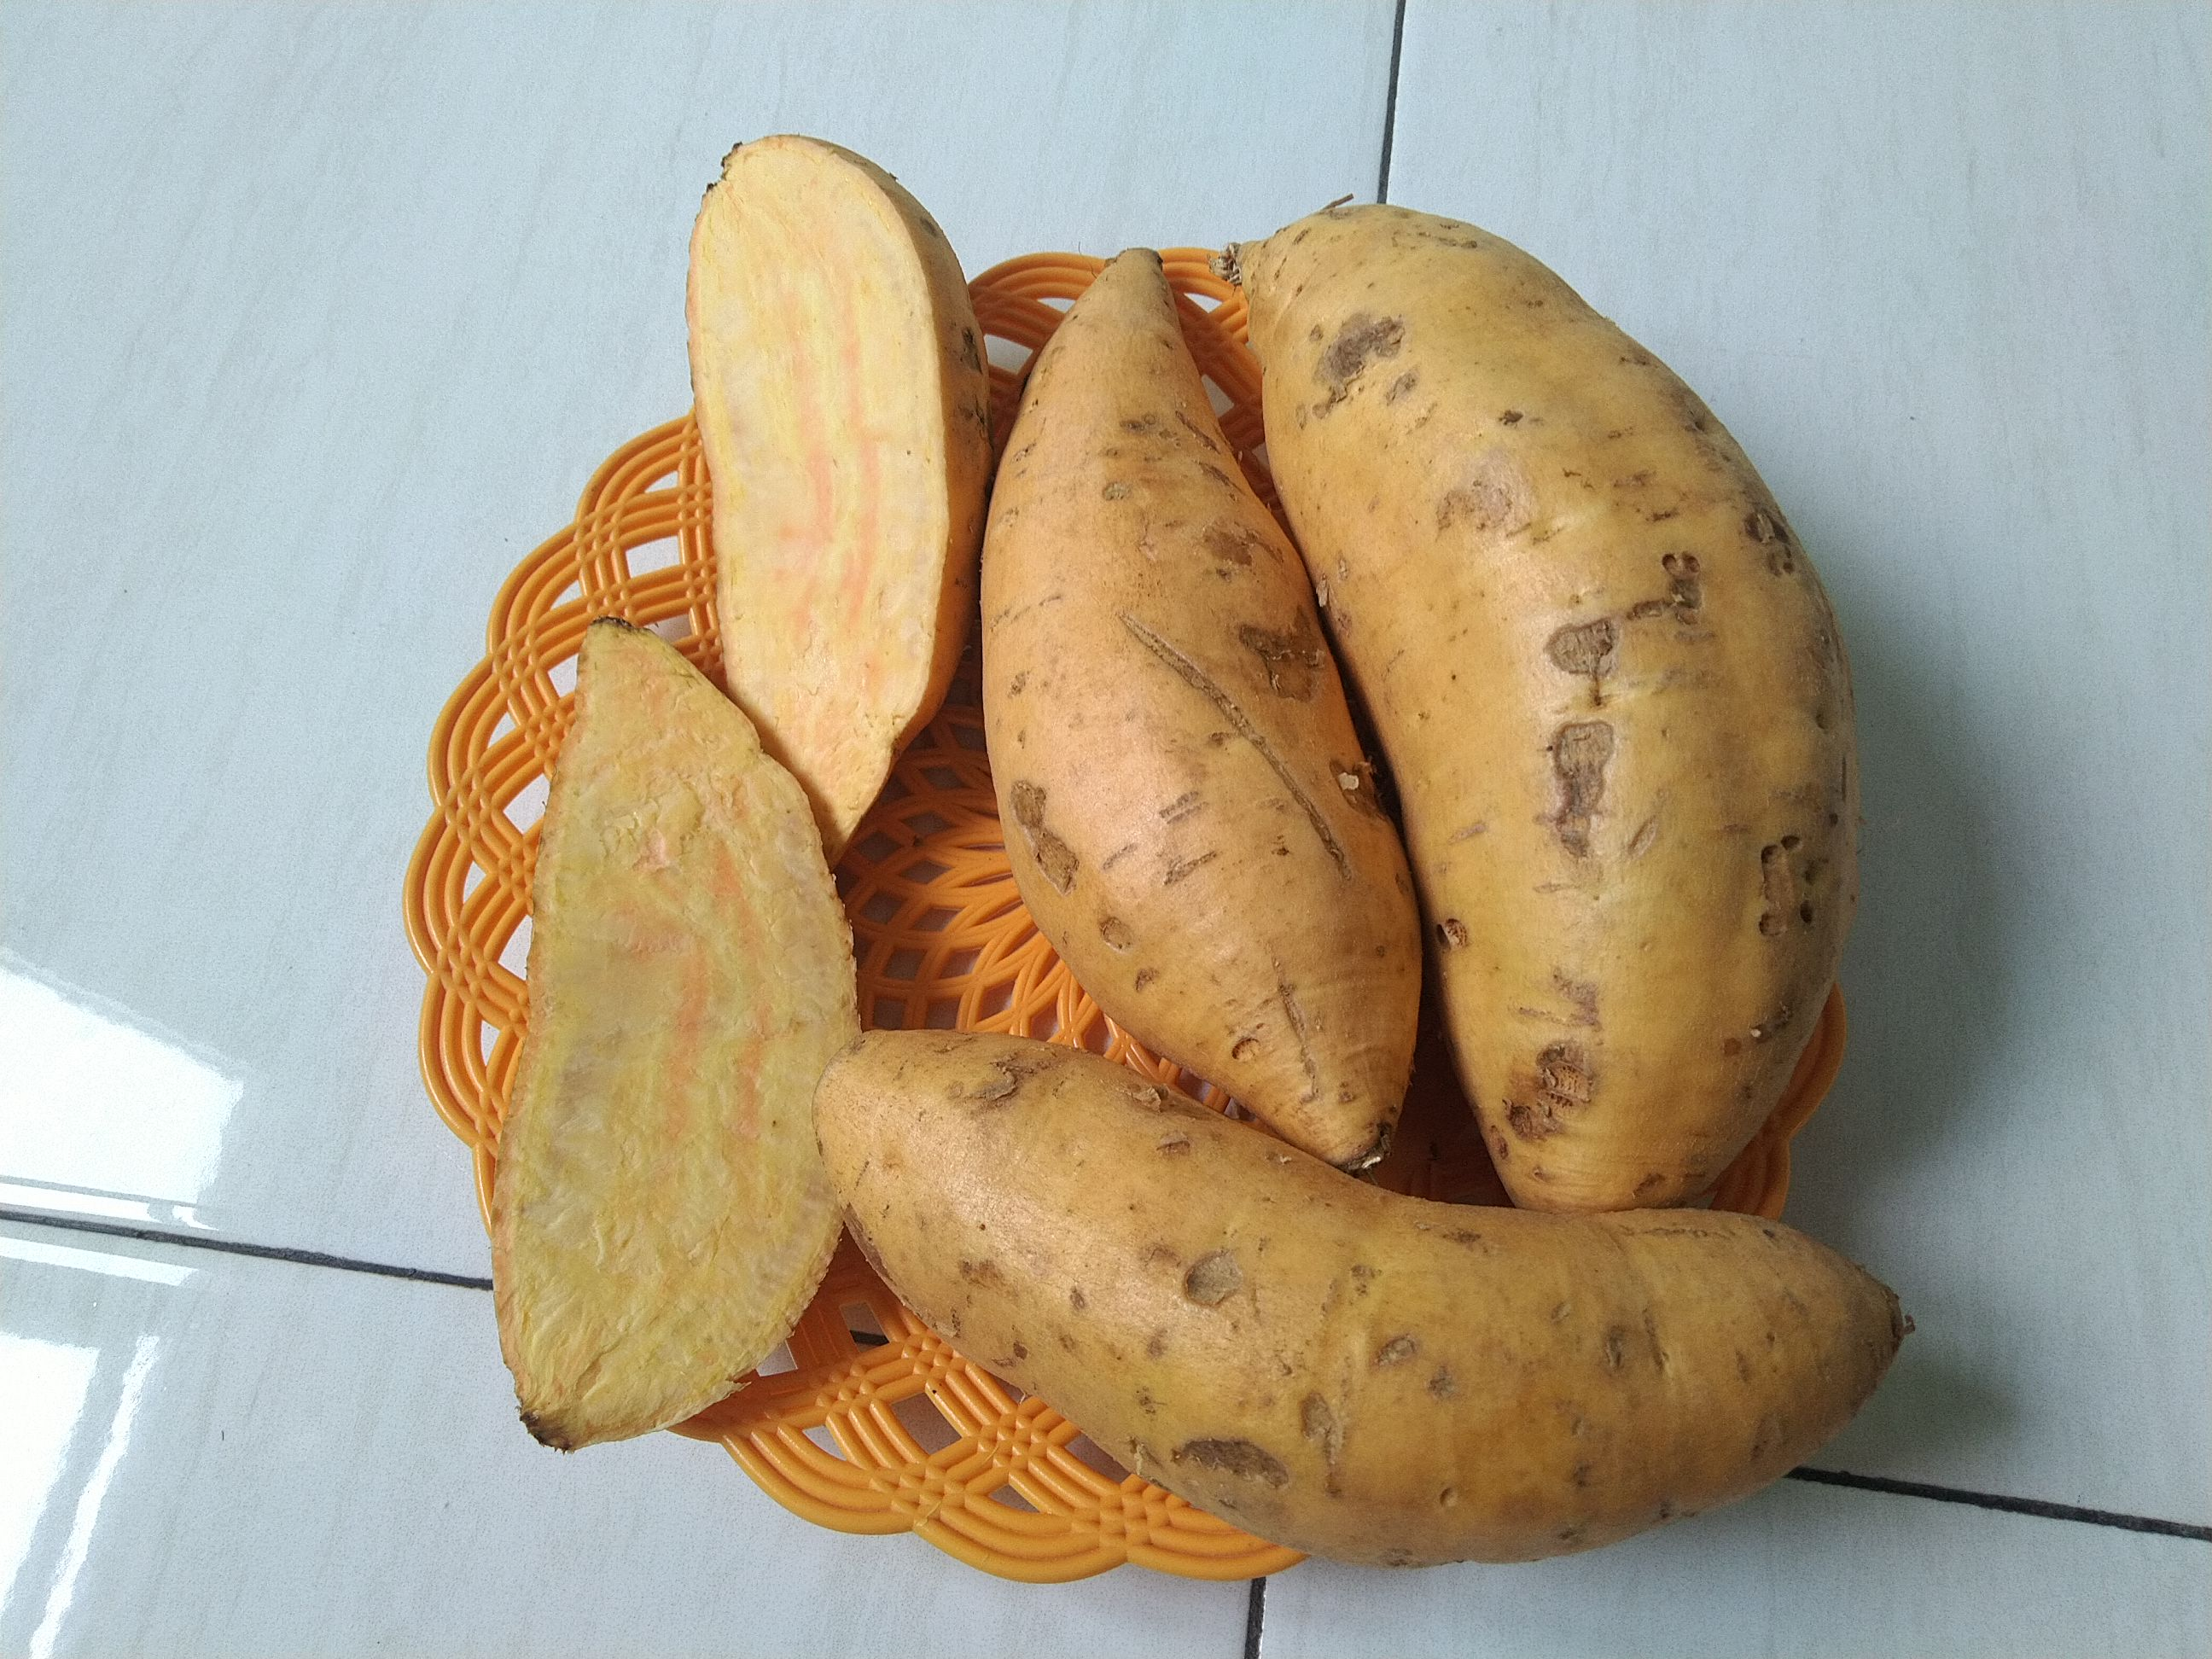ubi cilembu: (974, 186, 1893, 1237), (1219, 190, 1867, 1230), (806, 1016, 1939, 1581), (963, 228, 1421, 1182), (489, 598, 869, 1471), (665, 125, 998, 878)
